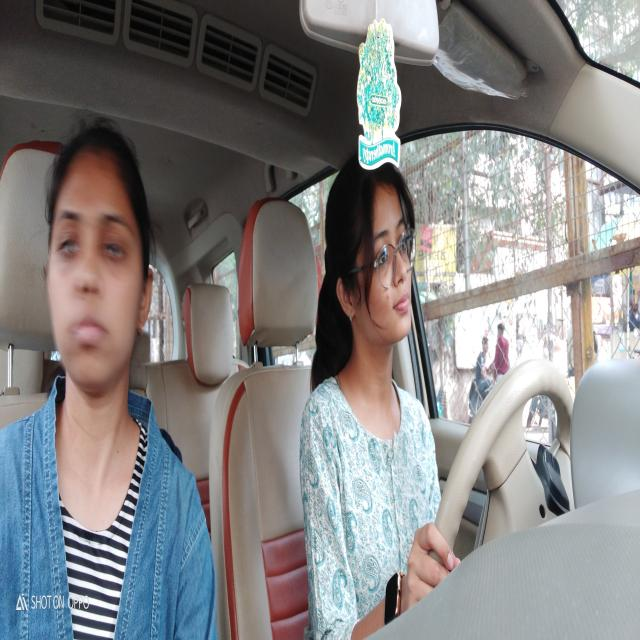person: (41, 115, 156, 434), (318, 146, 426, 382)
